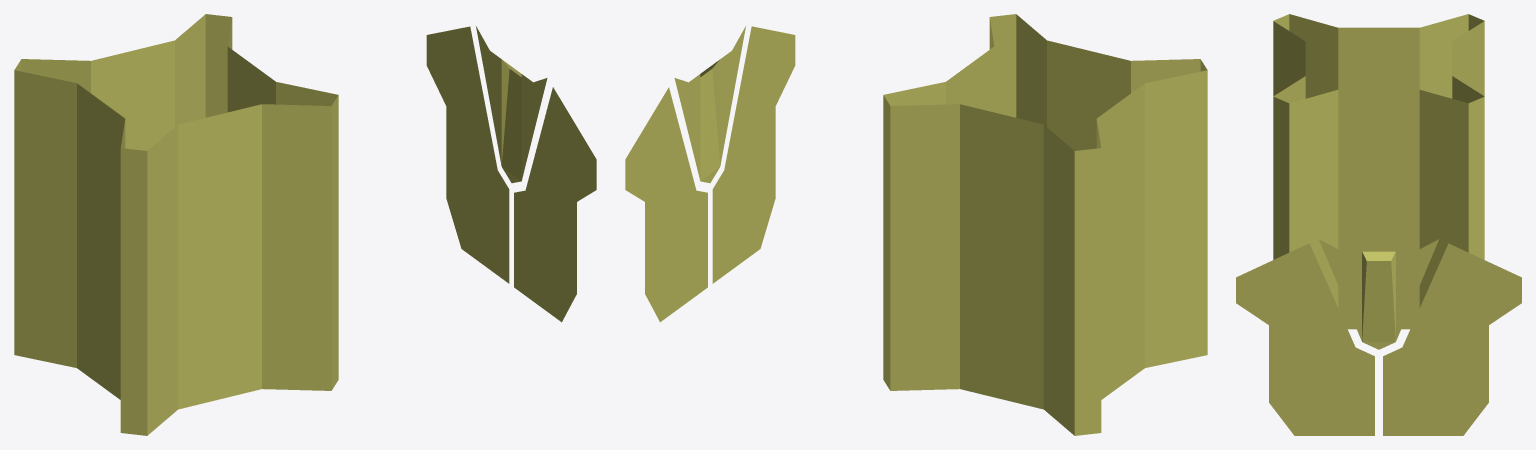
The model's file is cluster_4.fbx.
3 views of the same model, side by side, from view 1: azimuth 30°, elevation 25°; view 2: azimuth 150°, elevation 25°; view 3: azimuth 270°, elevation 25° (orthographic). The views are drawn at different scales.
Visible parts, largest first — view 1: cluster_4; view 2: cluster_4; view 3: cluster_4.
Part boxes in pixels (x1,y1,x2,y2): cluster_4: (14, 14, 596, 435); cluster_4: (625, 14, 1207, 435); cluster_4: (1236, 14, 1521, 435).
Size of the model in its own units: 21450 by 13000 by 14048.
